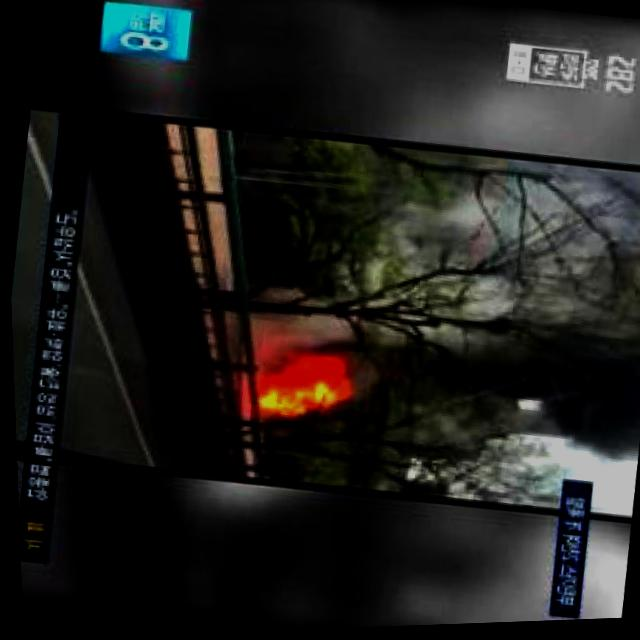Fire: (240, 341, 358, 434)
